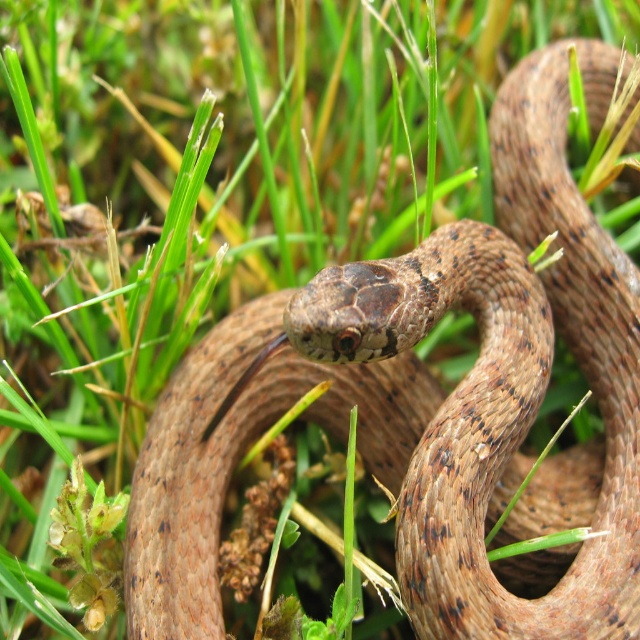Snake: (126, 35, 640, 640)
